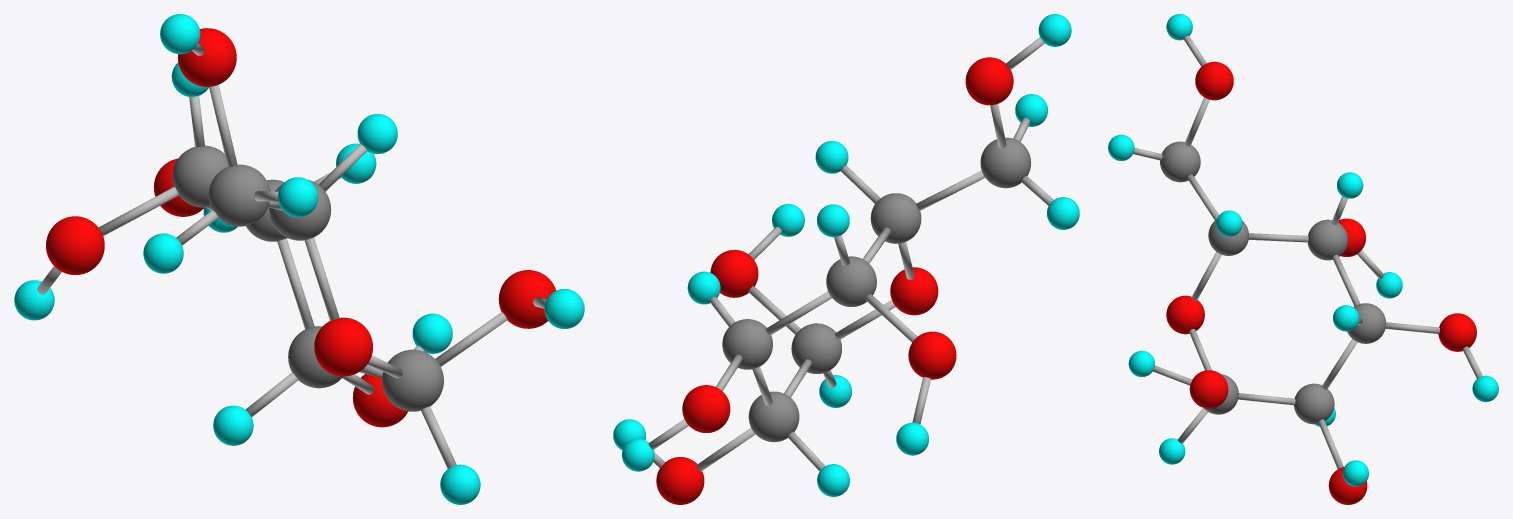
The model's file is α-D-galactose.glb.
3 renders of one model, left to right at view 1: azimuth 30°, elevation 25°; view 2: azimuth 150°, elevation 25°; view 3: azimuth 270°, elevation 25°, orthographic. The views are drawn at different scales.
Visible parts, largest first — view 1: CMAtom_0; view 2: CMAtom_0; view 3: CMAtom_0.
Boxes of the visible parts, x1,y1,x2,y2 form: CMAtom_0: [14, 14, 584, 504]; CMAtom_0: [613, 14, 1079, 504]; CMAtom_0: [1108, 14, 1498, 504].
Bounding box in the file's own units: 0.4983 × 0.6384 × 0.5915.
